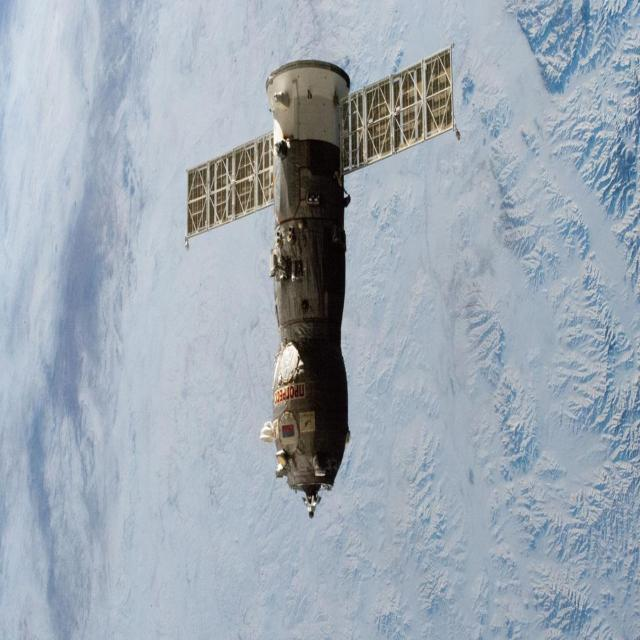satellite: (188, 47, 454, 517)
